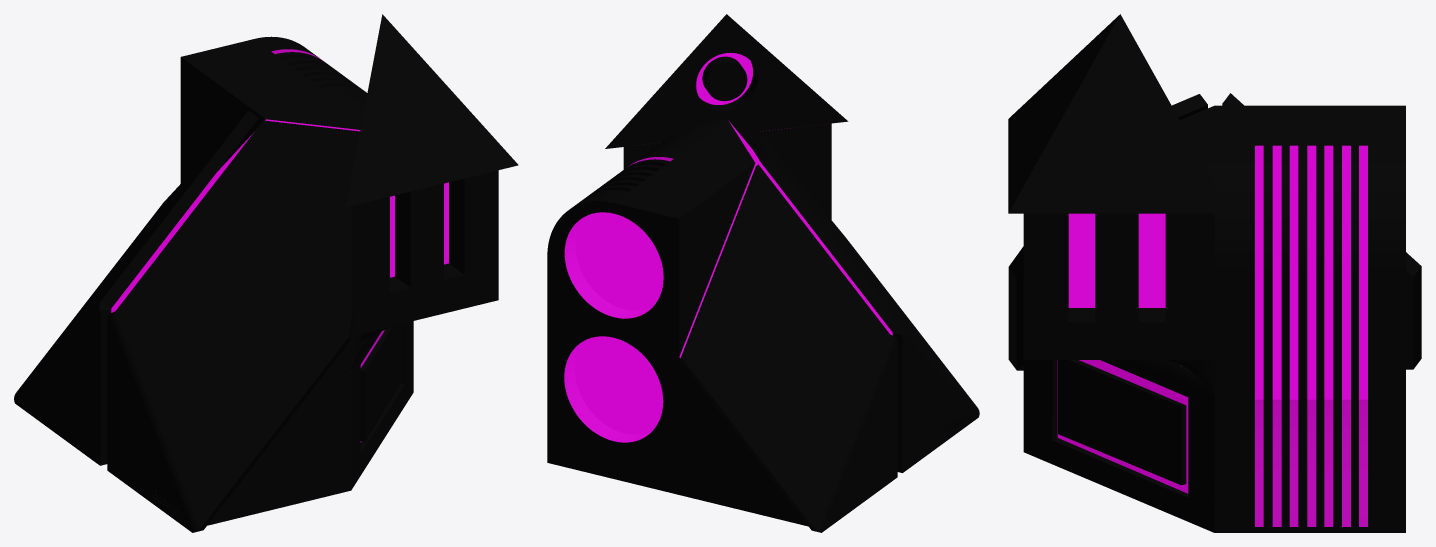
3 views of the same model, side by side, from view 1: azimuth 30°, elevation 25°; view 2: azimuth 150°, elevation 25°; view 3: azimuth 270°, elevation 25° (orthographic). The views are drawn at different scales.
Visible parts, largest first — view 1: Predeterminada; view 2: Predeterminada; view 3: Predeterminada.
Boxes of the visible parts, x1=… form: Predeterminada: x1=14, y1=14, x2=518, y2=532; Predeterminada: x1=547, y1=14, x2=979, y2=532; Predeterminada: x1=1008, y1=14, x2=1421, y2=532.
Size of the model in its own units: 0.0876 by 0.1107 by 0.0865.
